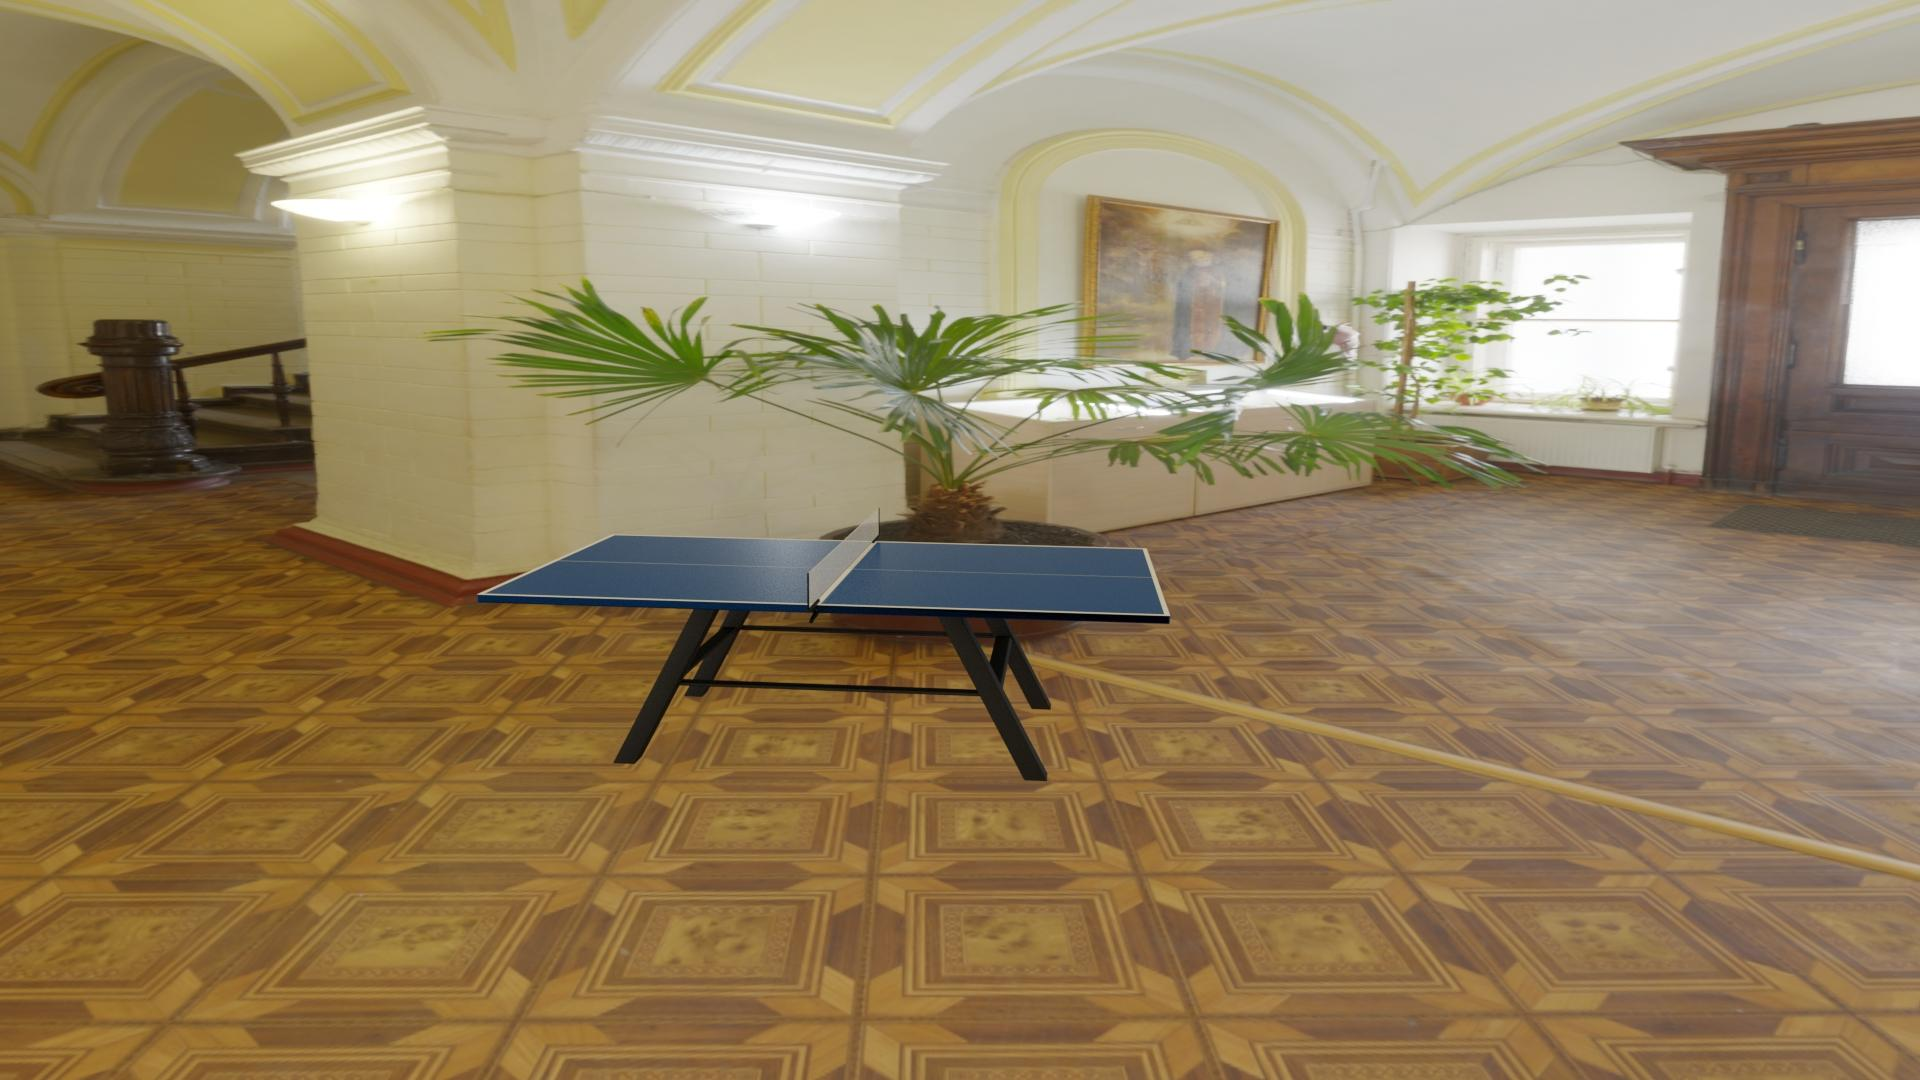table: (484, 535, 1164, 615)
